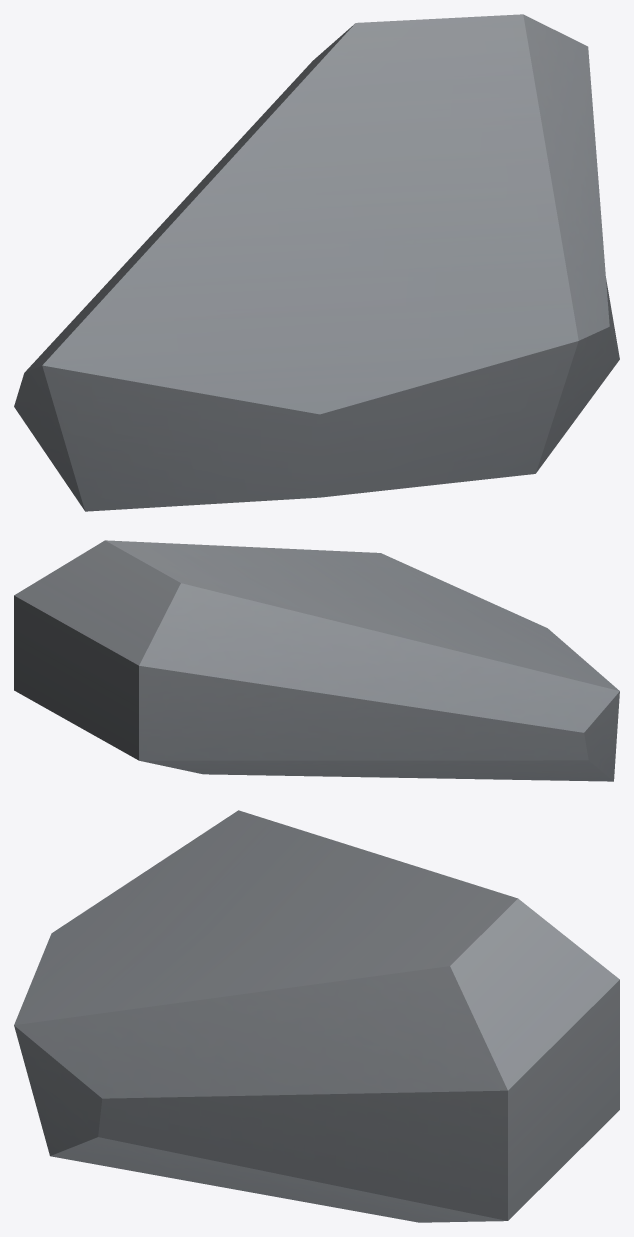
File: rocaLisa1.fbx
3 views of the same model, one above another, from view 1: azimuth 30°, elevation 25°; view 2: azimuth 150°, elevation 25°; view 3: azimuth 270°, elevation 25° (orthographic). The views are drawn at different scales.
Parts seen in each view (by area): view 1: rocaLisa1; view 2: rocaLisa1; view 3: rocaLisa1.
Boxes of the visible parts, x1,y1,x2,y2 form: rocaLisa1: (14, 14, 619, 511); rocaLisa1: (14, 540, 619, 781); rocaLisa1: (14, 810, 619, 1222).
Bounding box in the file's own units: 206 × 79.53 × 155.
